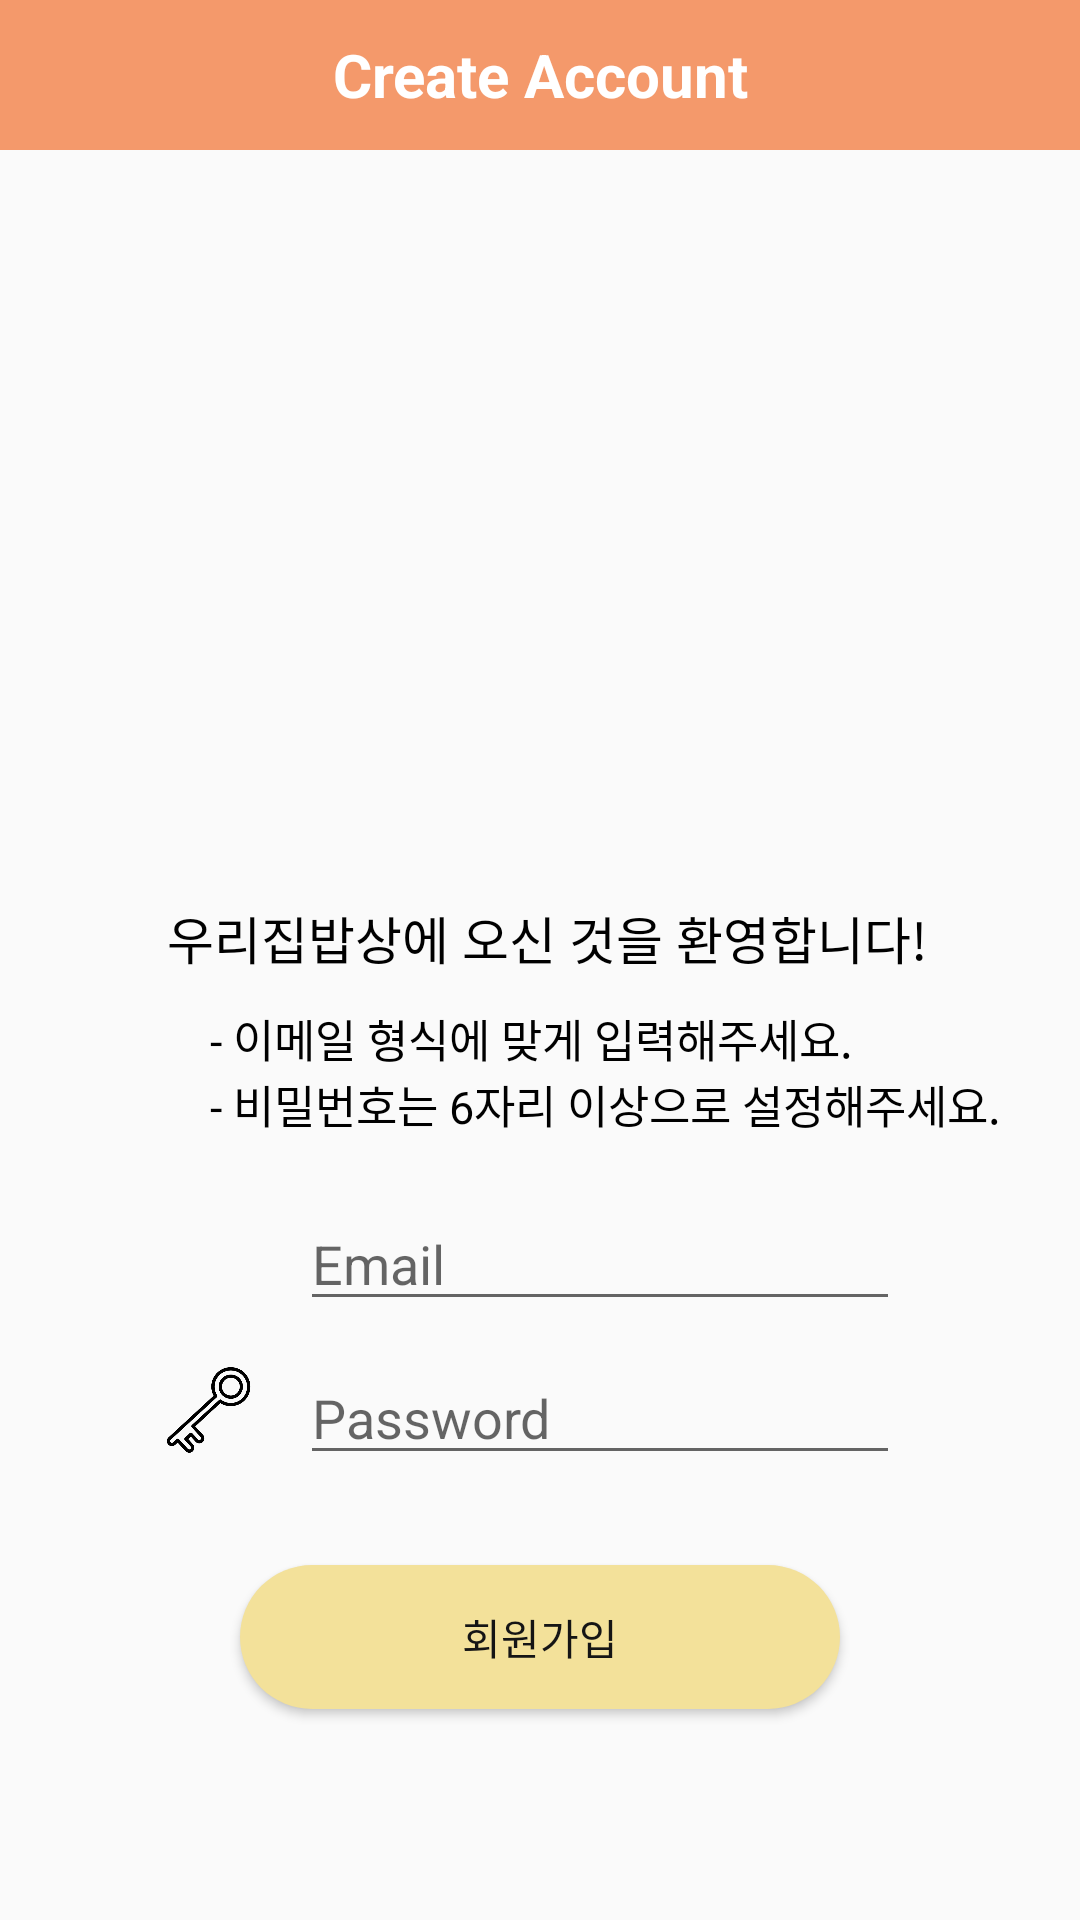

Icon click points for this 1080w x 1920h phone screenshot, format (x,y):
keyicon: (208,1410)
